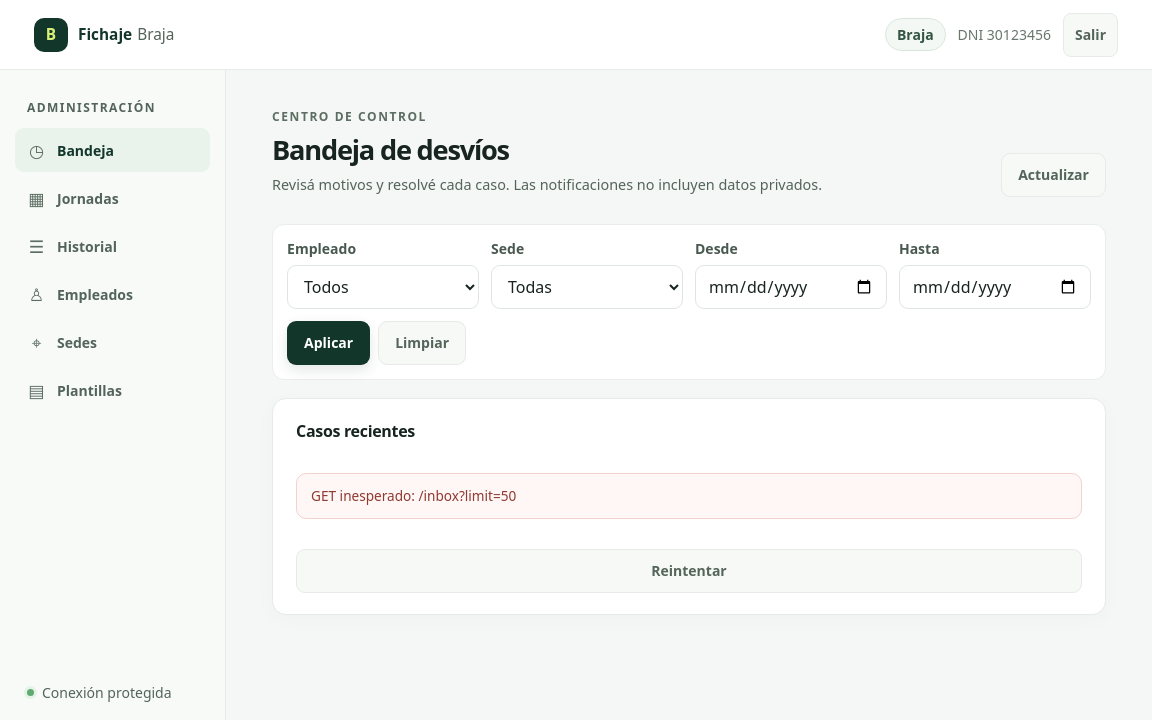
Historial del ADMIN › aparece en la navegación y abre la vista
Click the button "☰ Historial" at (112, 246), box [15, 224, 210, 268]
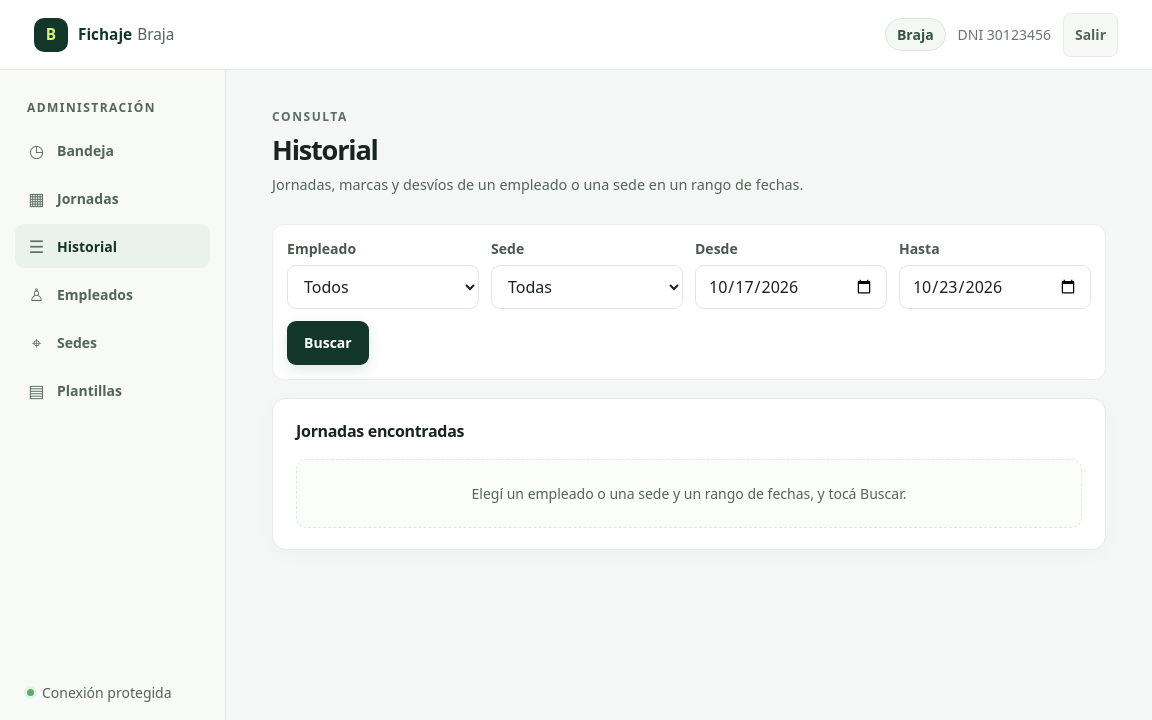
expect the heading "Historial" is shown: met, box [272, 131, 378, 168]
